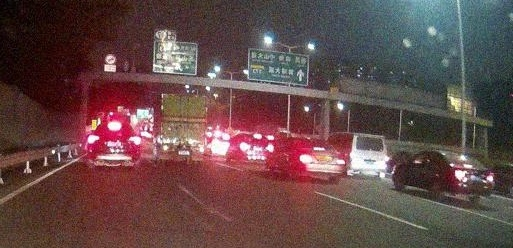L_light: (299, 154, 312, 162), (88, 136, 99, 144), (161, 145, 172, 150), (350, 152, 356, 161), (455, 171, 464, 177), (241, 144, 250, 149)
R_light: (129, 136, 139, 145), (335, 158, 345, 165), (486, 174, 493, 182), (383, 154, 388, 165), (197, 148, 204, 153), (266, 145, 273, 150)
T_light: (108, 123, 122, 129), (313, 147, 324, 151), (253, 134, 262, 138), (463, 164, 472, 167), (366, 137, 373, 140), (180, 96, 188, 98)
night-brake: (444, 151, 494, 202), (88, 122, 140, 169), (296, 137, 346, 183), (240, 134, 273, 165)
night-no: (160, 93, 206, 166), (350, 133, 388, 179)
